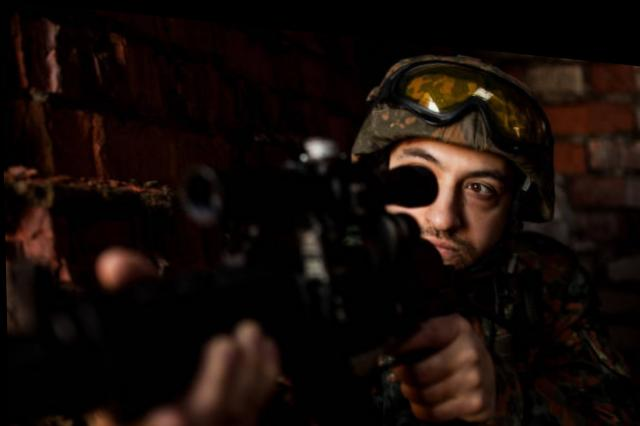other: (254, 54, 532, 424)
